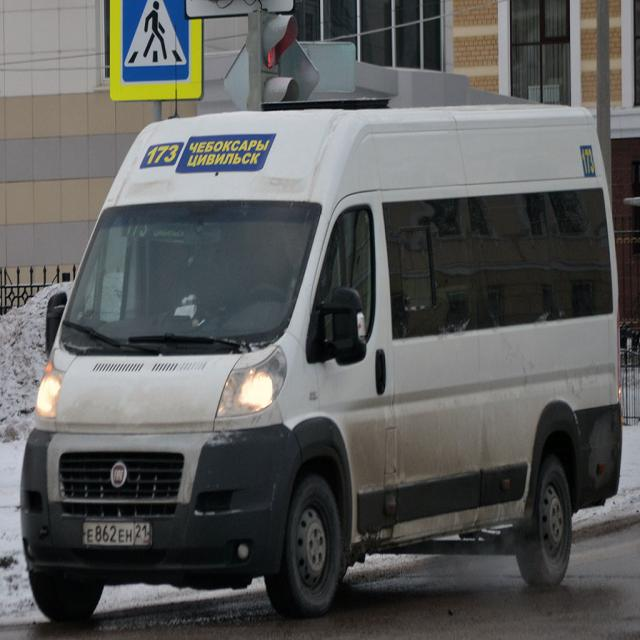number-of-bus: (146, 137, 183, 171)
